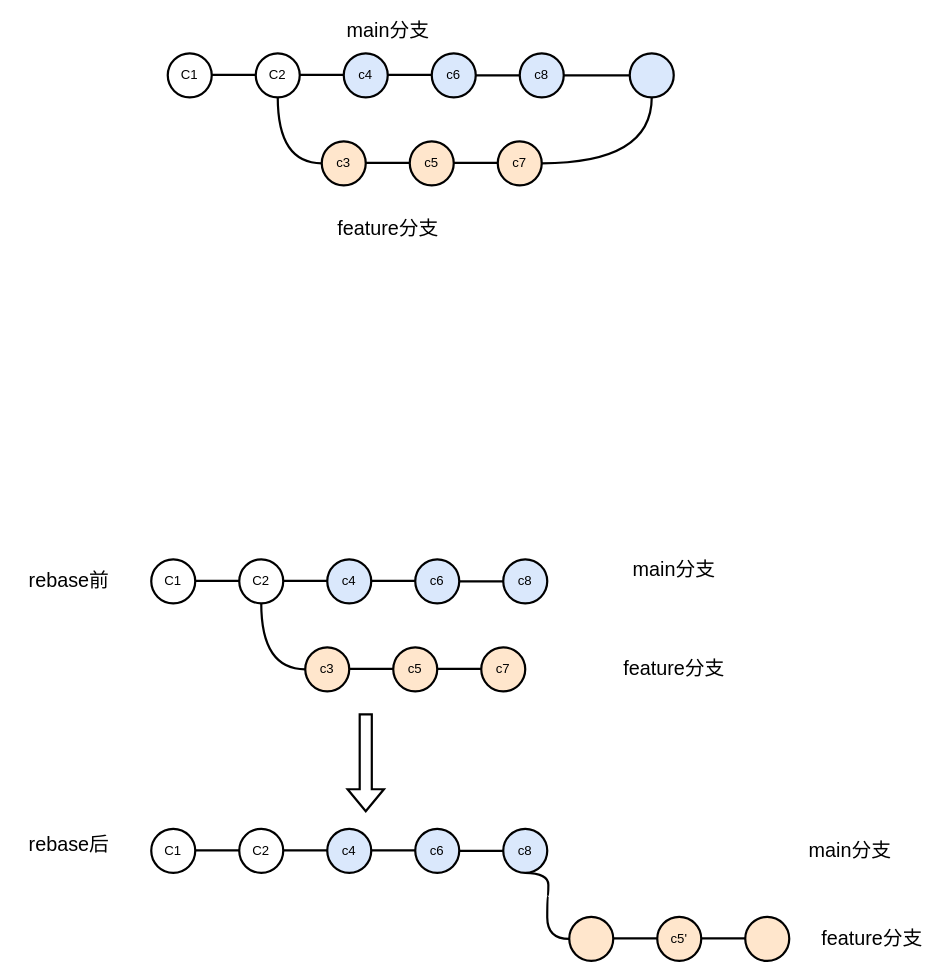
Some shapes in this 950 by 980 pixel diagram are drawn without their labels. The box of each missing label's shape, as (x1, y1, x2, y2) in pixels:
c3': (568, 915, 614, 961)
c7': (744, 915, 790, 961)
c9: (628, 52, 674, 98)
